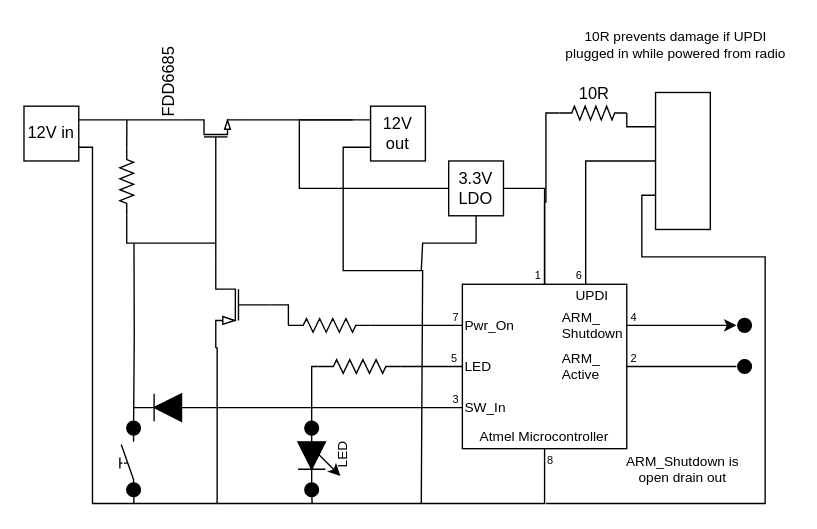
The diagram is 817 pixels wide and 529 high, and some of its shapes have lost their labels. The box of each missing label's shape, as (x1, y1, x2, y2) in pixels:
2N7002: (214, 249, 271, 360)
BAS16: (132, 393, 202, 421)
UPDI prog: (654, 91, 710, 229)
